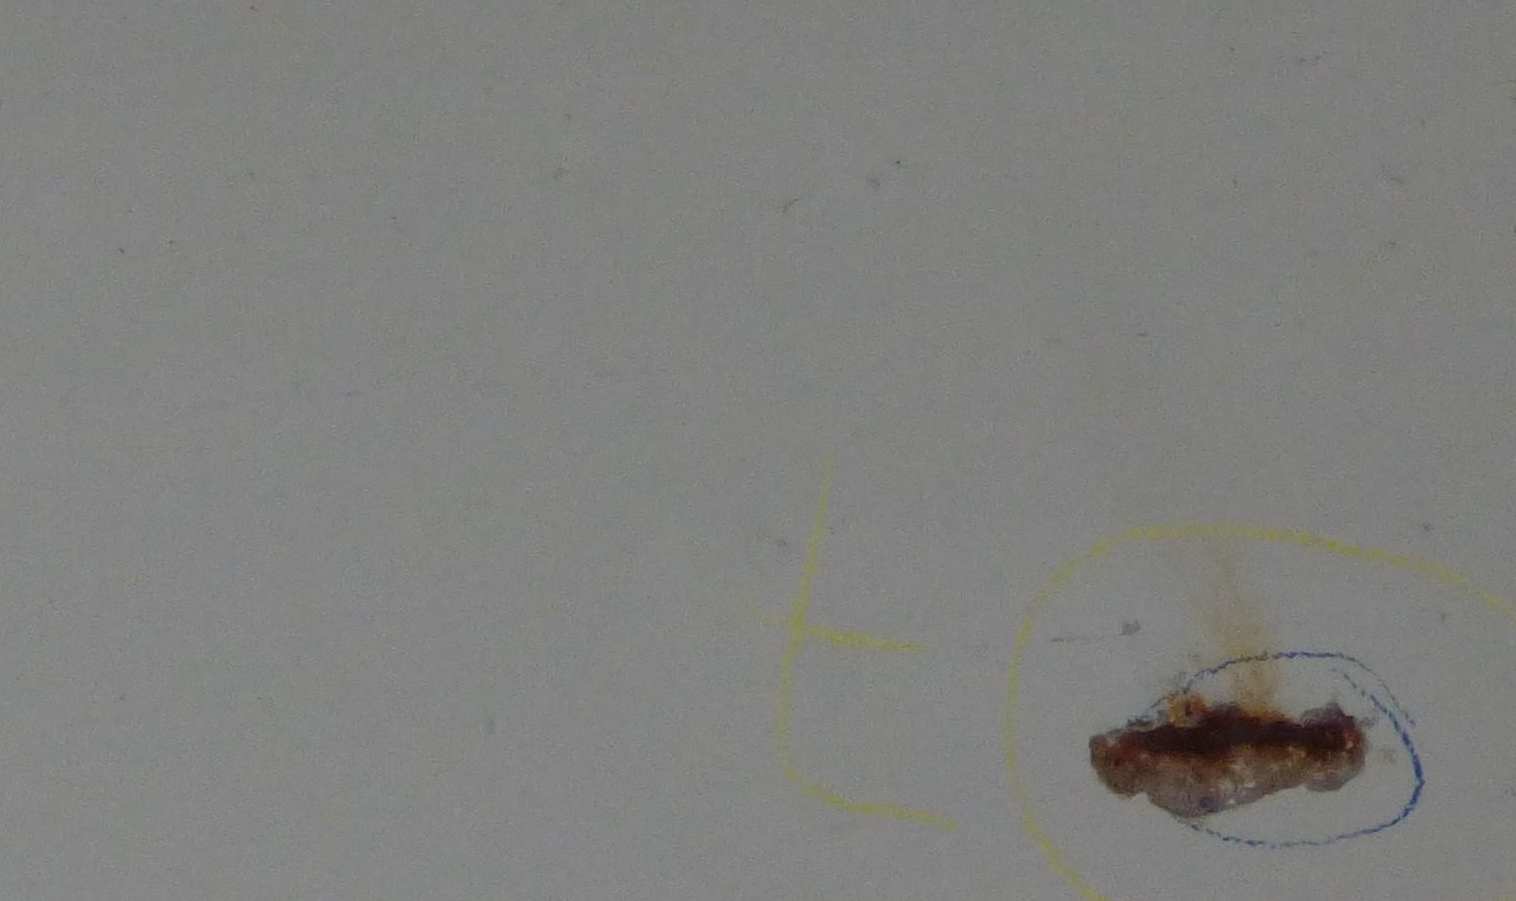Exposed reinforcement: (1126, 724, 1337, 756)
Spalling: (1087, 700, 1366, 824)
